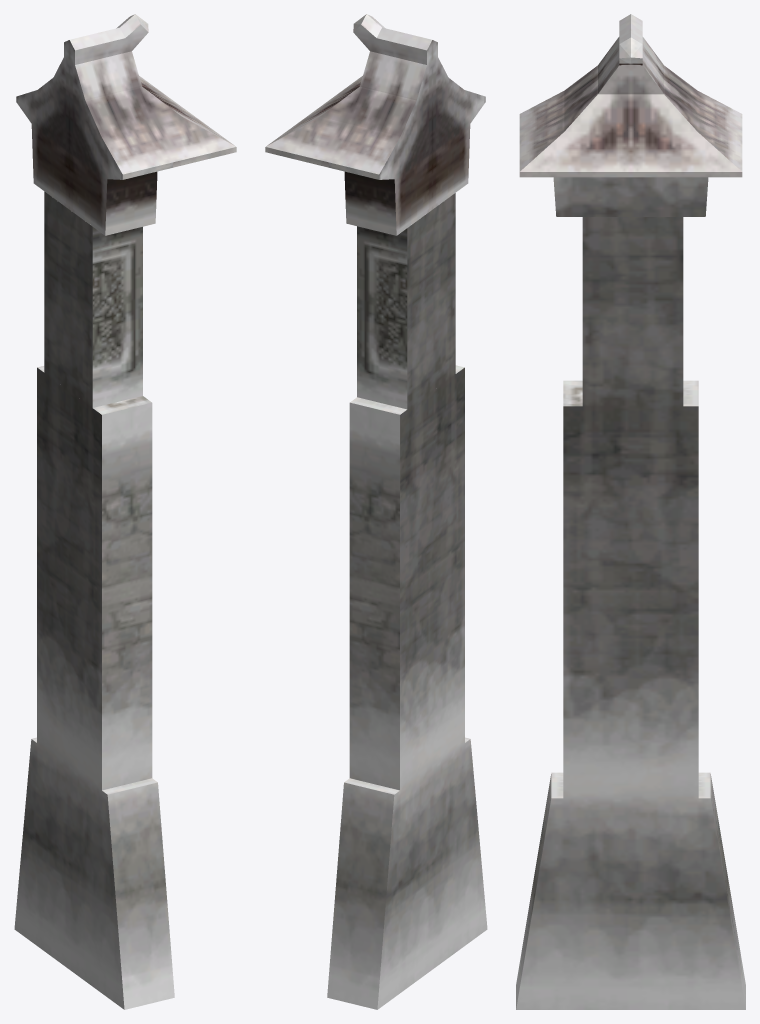
Rendered from snow-middledam-06.glb.
3 views of the same model, side by side, from view 1: azimuth 30°, elevation 25°; view 2: azimuth 150°, elevation 25°; view 3: azimuth 270°, elevation 25° (orthographic). The views are drawn at different scales.
Parts seen in each view (by area): view 1: snow-middledam-02; view 2: snow-middledam-02; view 3: snow-middledam-02.
Boxes of the visible parts, <box> form: snow-middledam-02: <box>14,14,236,1009</box>; snow-middledam-02: <box>265,14,487,1009</box>; snow-middledam-02: <box>516,14,745,1009</box>.
Size of the model in its own units: 1.01 by 8.01 by 1.7.
Materials: 1 (1 with a texture image).
